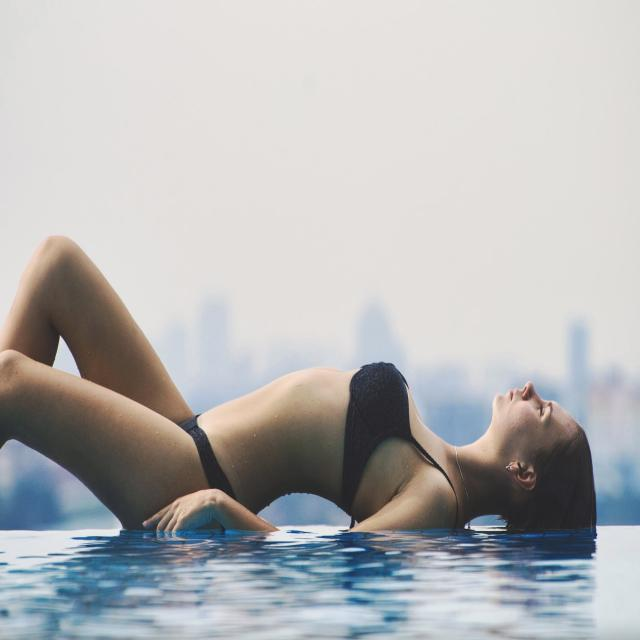adult: (0, 233, 593, 530)
